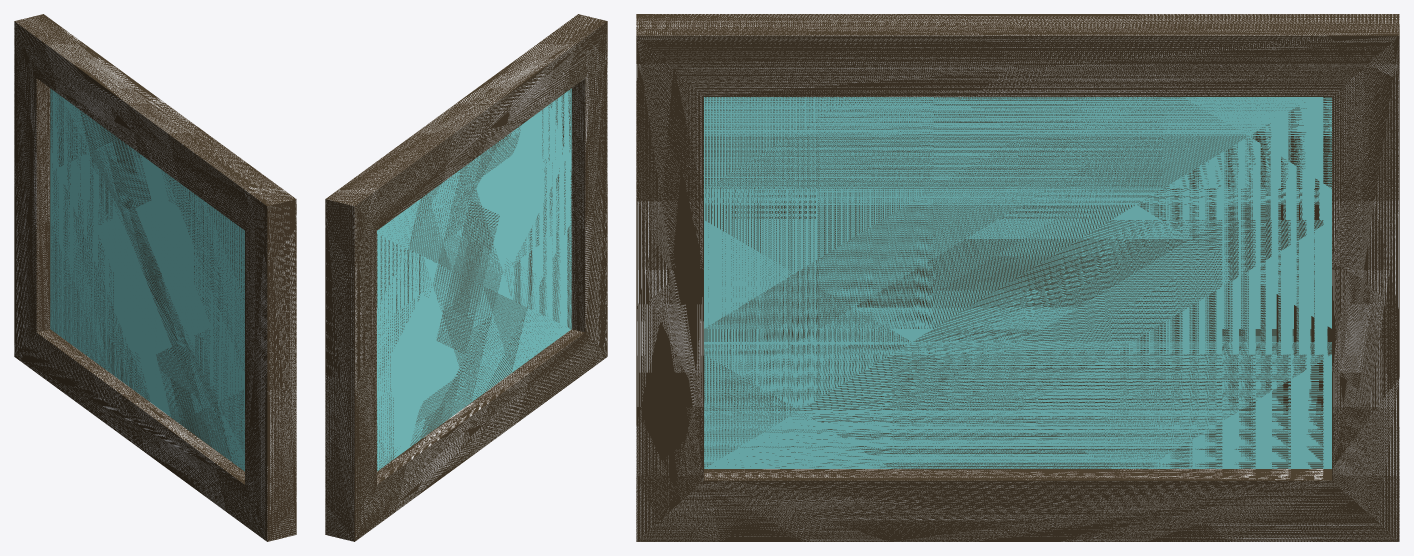
The picture shows the model from 3 angles, left to right: view 1: azimuth 30°, elevation 25°; view 2: azimuth 150°, elevation 25°; view 3: azimuth 270°, elevation 25°; orthographic projection. The views are drawn at different scales.
Parts seen in each view (by area): view 1: bathroom mirror; view 2: bathroom mirror; view 3: bathroom mirror.
Boxes of the visible parts, left/top/right/bottom form: bathroom mirror: left=14, top=14, right=296, bottom=541; bathroom mirror: left=325, top=14, right=607, bottom=541; bathroom mirror: left=636, top=14, right=1399, bottom=541.
Bounding box in the file's own units: 3.25 × 35.5 × 48.5.
